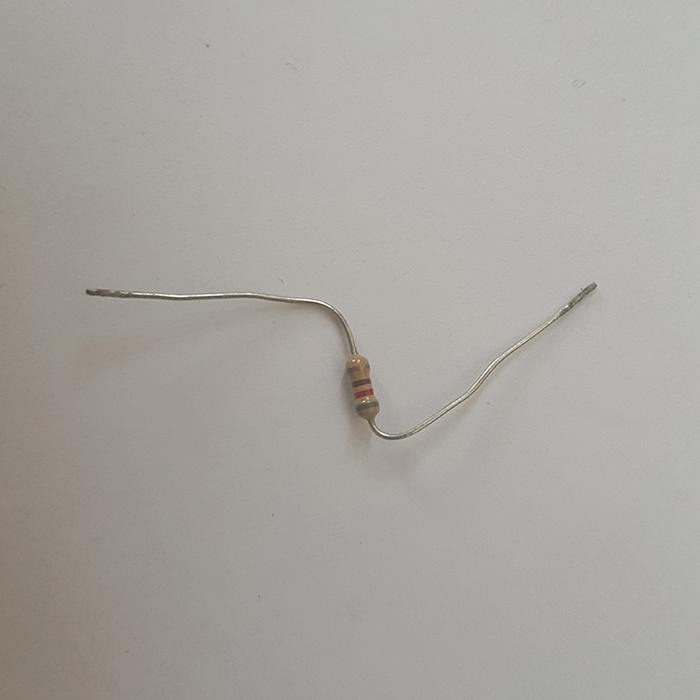resistor: (345, 352, 379, 423)
